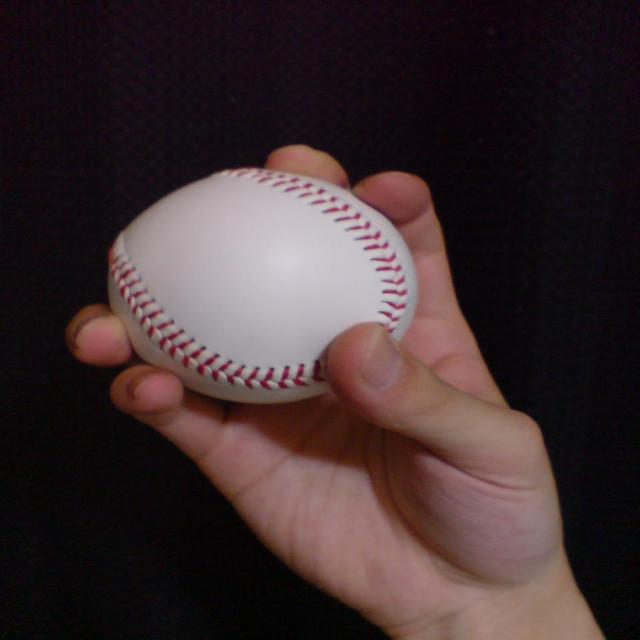baseball: (104, 168, 408, 396)
